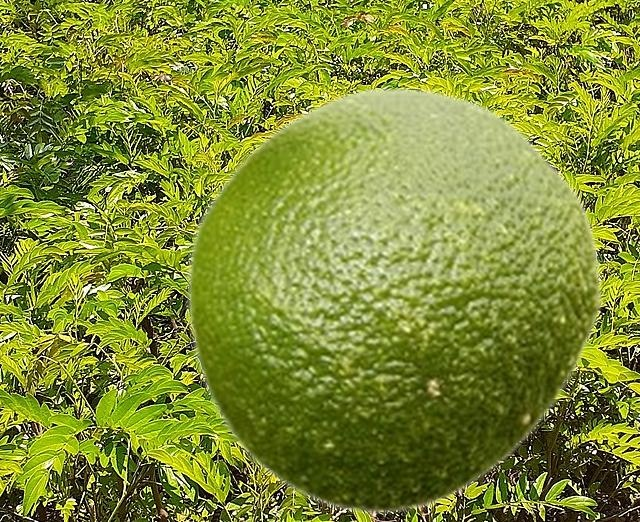calamansi: (184, 85, 602, 516)
